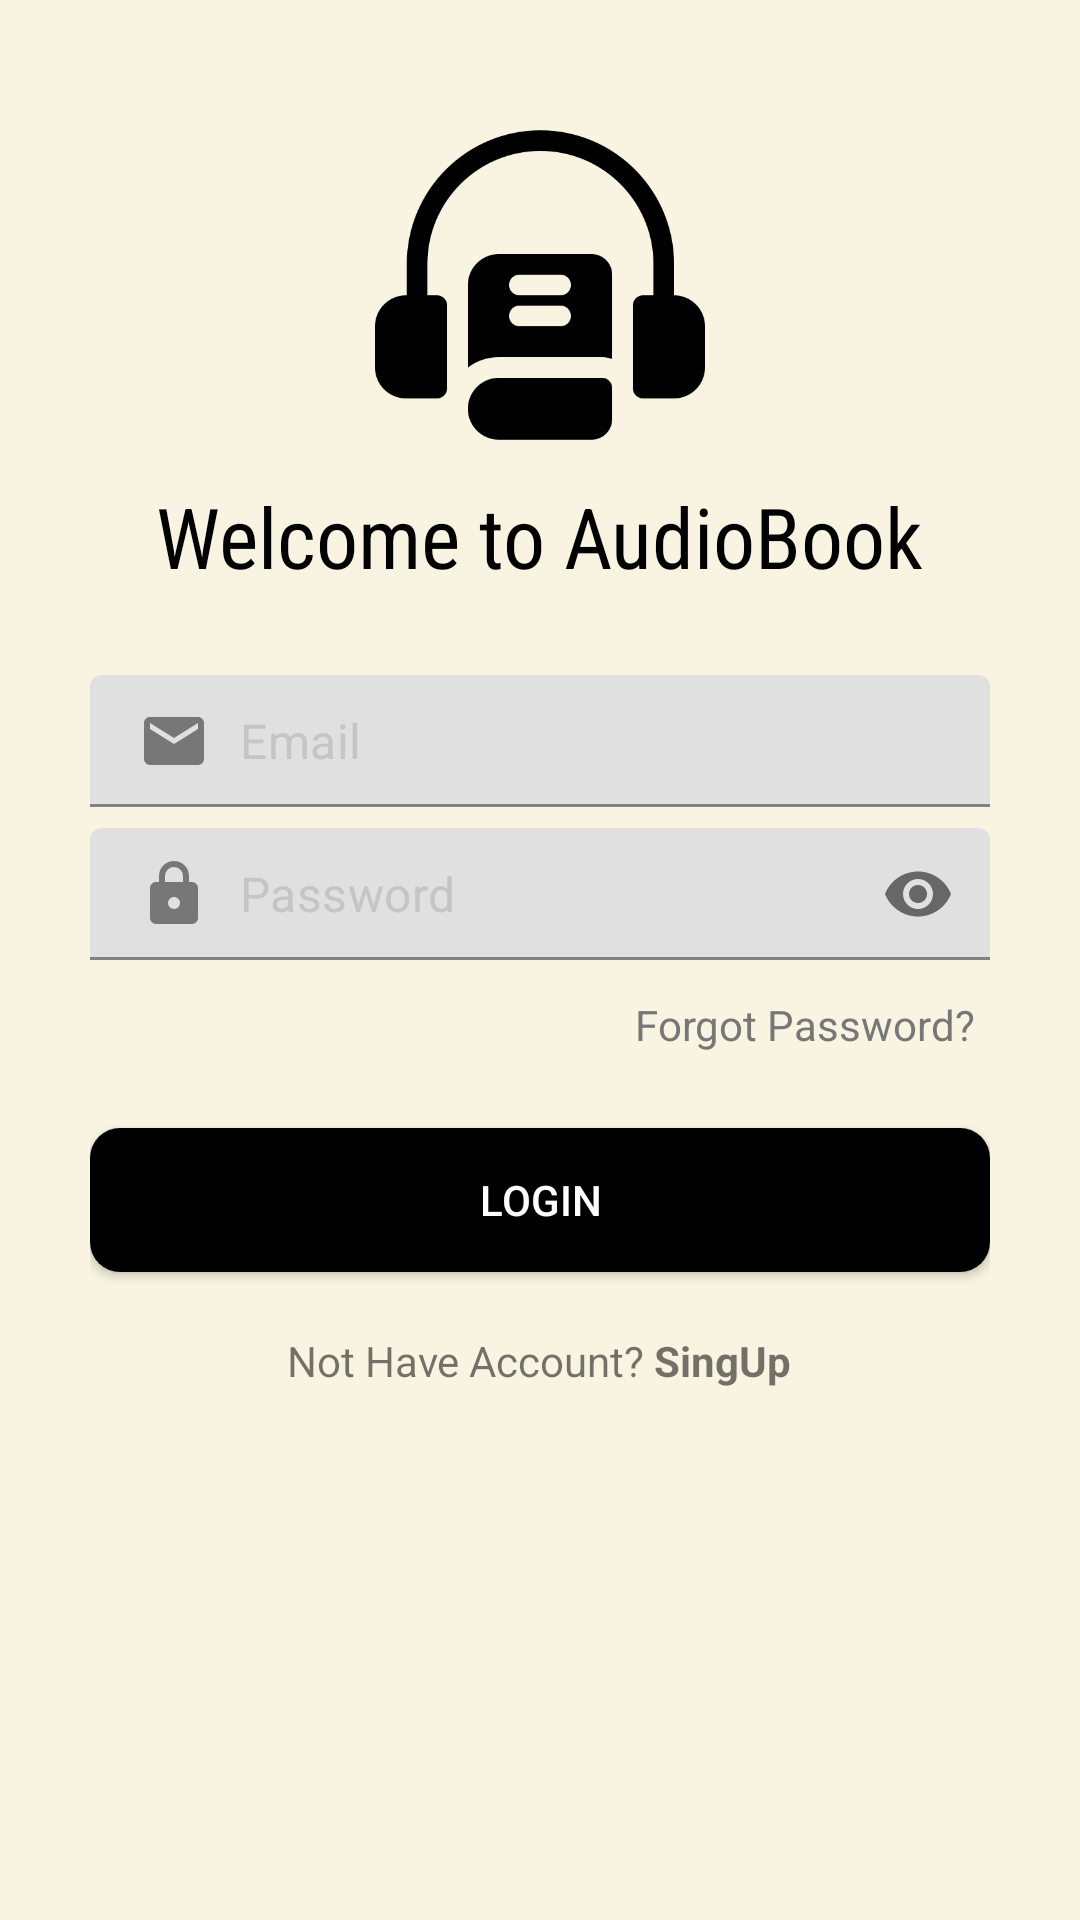

Where icons sit on this 1080 x 1920 app screen, as (x1, y1, x2, y2):
app: (375, 130, 705, 440)
